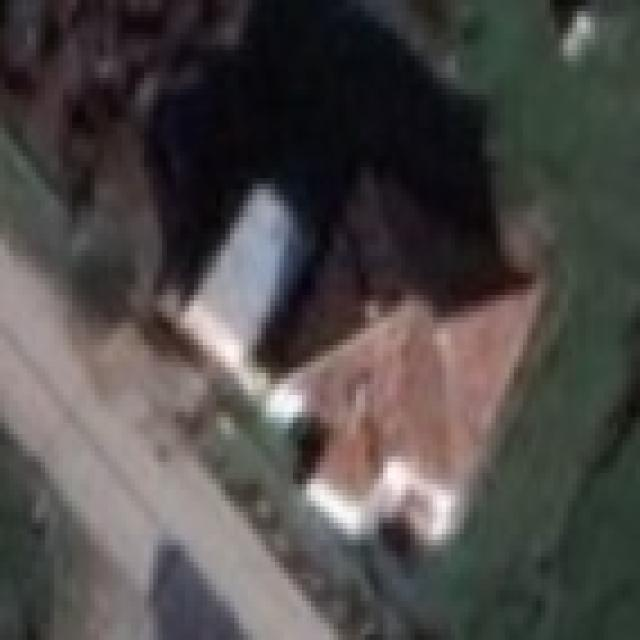Batiment: (145, 3, 544, 543)
